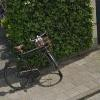bicycles: (3, 30, 64, 90)
